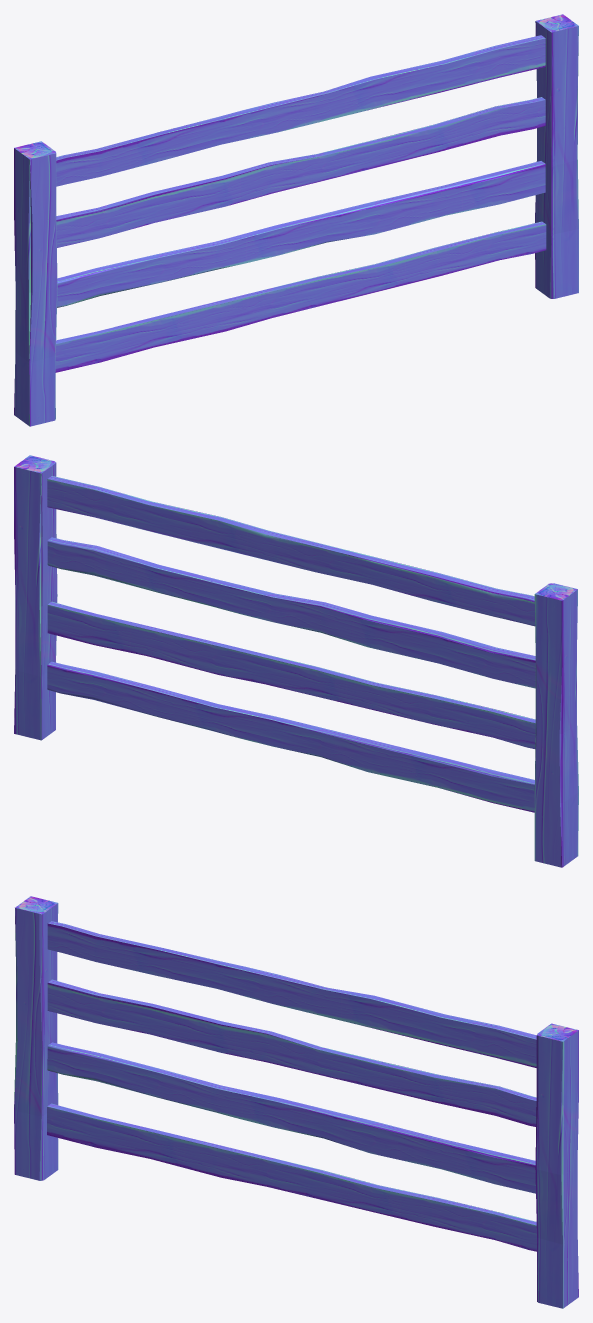
File: SM_WoodenFence_A_01.fbx
3 renders of one model, top to bottom at view 1: azimuth 30°, elevation 25°; view 2: azimuth 150°, elevation 25°; view 3: azimuth 330°, elevation 25°, orthographic.
Visible parts, largest first — view 1: SM_WoodenFence_A_01_LOD0; view 2: SM_WoodenFence_A_01_LOD0; view 3: SM_WoodenFence_A_01_LOD0.
Part boxes in pixels (x1,y1,x2,y2): SM_WoodenFence_A_01_LOD0: (14,14,578,426); SM_WoodenFence_A_01_LOD0: (14,455,578,867); SM_WoodenFence_A_01_LOD0: (14,896,578,1308).
Size of the model in its own units: 263 by 122 by 13.56.
